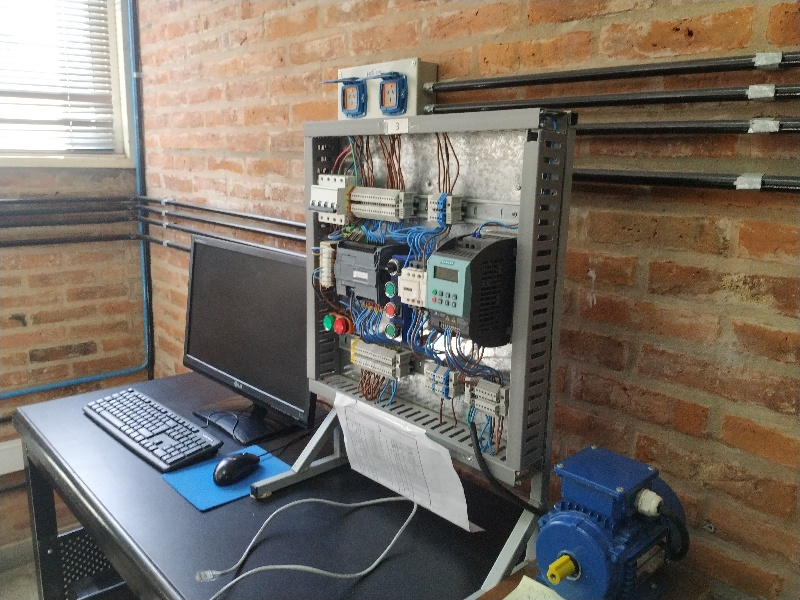Tablero 3: (307, 133, 532, 449)
